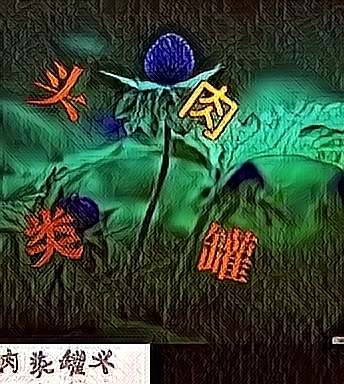B9DE: (194, 218, 258, 285)
C0E0: (22, 204, 86, 271)
C8E2: (176, 74, 240, 141)
CDB7: (25, 57, 89, 124)
